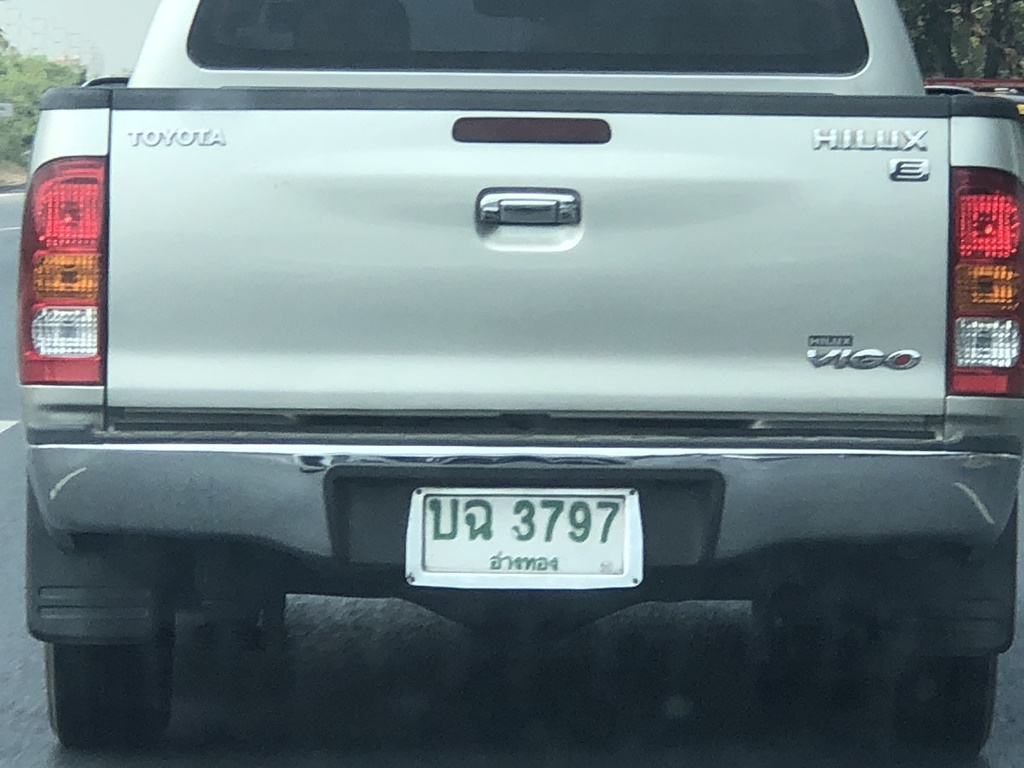nine: (564, 495, 594, 551)
seven: (592, 497, 622, 548)
three: (506, 493, 538, 549)
